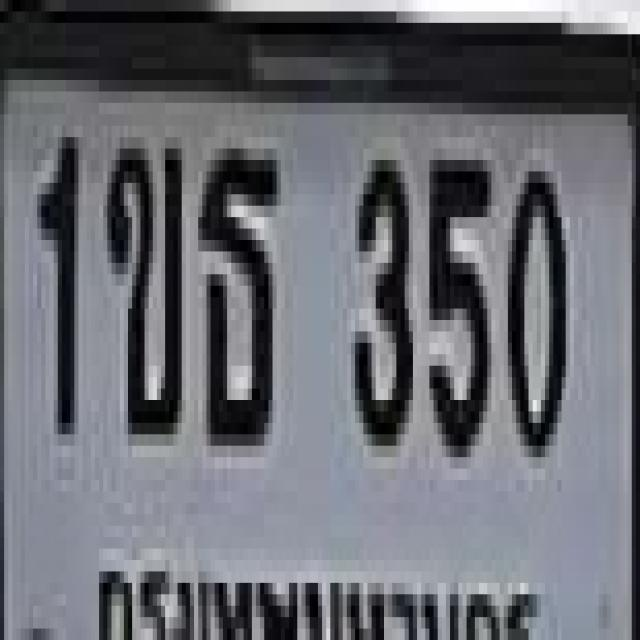0: (504, 160, 562, 446)
1: (37, 126, 74, 423)
3: (351, 149, 409, 434)
5: (426, 148, 488, 446)
A02: (103, 137, 178, 423)
A24: (196, 137, 279, 434)
